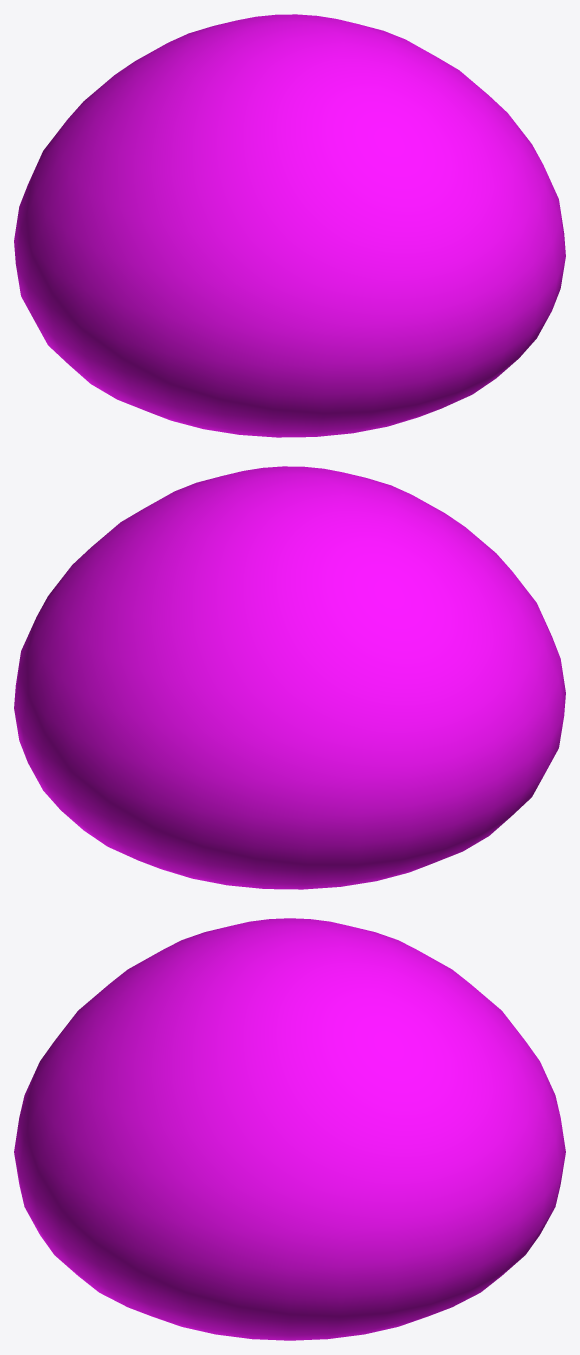
The model's file is Slime.glb.
3 views of the same model, one above another, from view 1: azimuth 30°, elevation 25°; view 2: azimuth 150°, elevation 25°; view 3: azimuth 270°, elevation 25° (orthographic).
Parts seen in each view (by area): view 1: OuterLayer; view 2: OuterLayer; view 3: OuterLayer.
Part boxes in pixels (x1,y1,x2,y2): OuterLayer: (14,14,565,437); OuterLayer: (14,466,565,889); OuterLayer: (14,918,565,1340).
Size of the model in its own units: 2.19 by 1.43 by 2.19.
